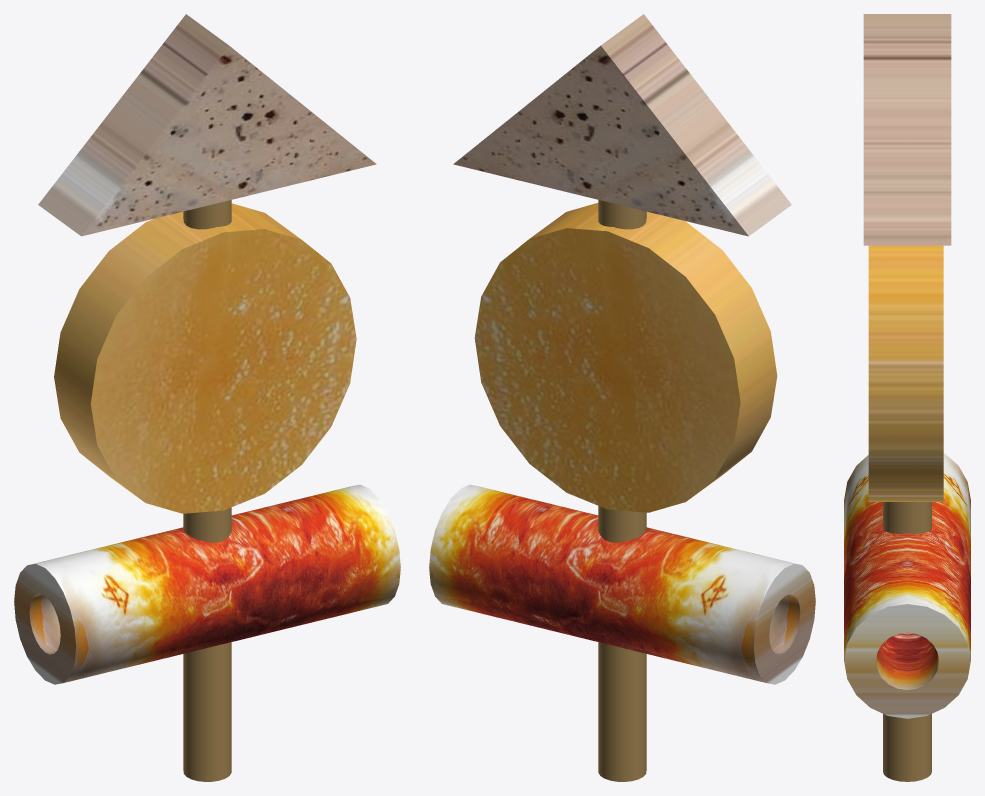
Rendered from nOden.fbx.
3 views of the same model, side by side, from view 1: azimuth 30°, elevation 25°; view 2: azimuth 150°, elevation 25°; view 3: azimuth 270°, elevation 25° (orthographic). The views are drawn at different scales.
Visible parts, largest first — view 1: pCube2; view 2: pCube2; view 3: pCube2.
Boxes of the visible parts, box(x1,y1,x2,y2) form: pCube2: box(14, 14, 400, 781); pCube2: box(429, 14, 815, 781); pCube2: box(844, 14, 970, 781).
Size of the model in its own units: 3.1 by 6.78 by 1.03.
